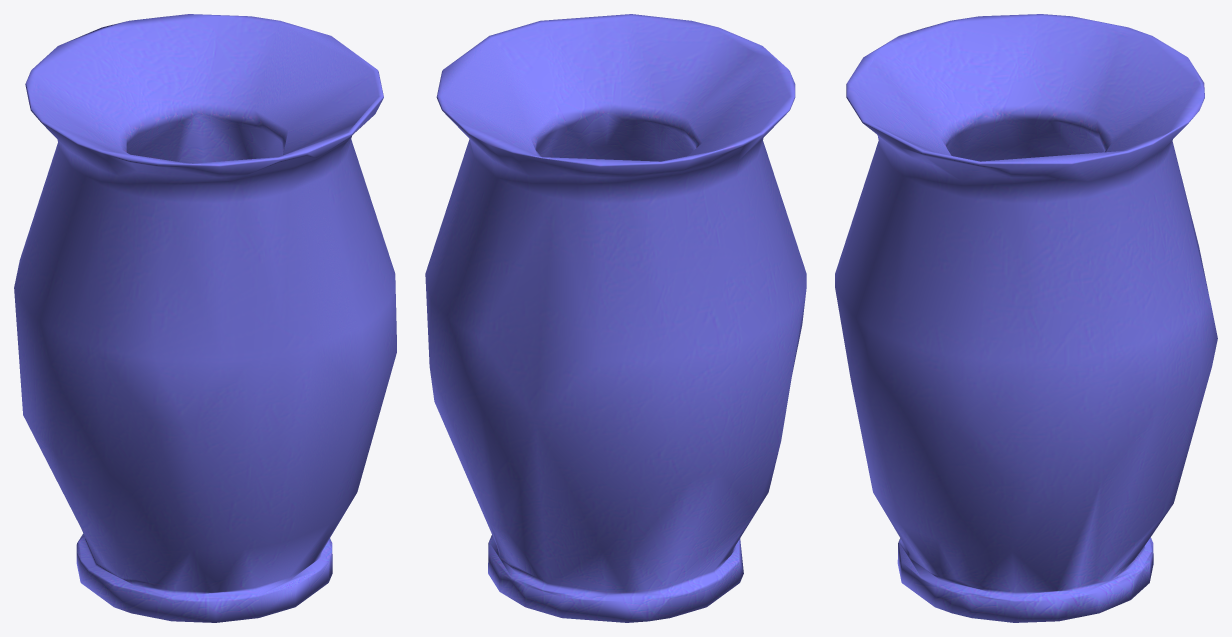
The model's file is vase collider.fbx.
3 renders of one model, left to right at view 1: azimuth 30°, elevation 25°; view 2: azimuth 150°, elevation 25°; view 3: azimuth 270°, elevation 25°, orthographic.
Visible parts, largest first — view 1: Pot; view 2: Pot; view 3: Pot.
Boxes of the visible parts, <box> form: Pot: <box>14,14,396,622</box>; Pot: <box>425,14,806,622</box>; Pot: <box>835,14,1217,622</box>.
Size of the model in its own units: 69.37 by 96.51 by 69.65.
